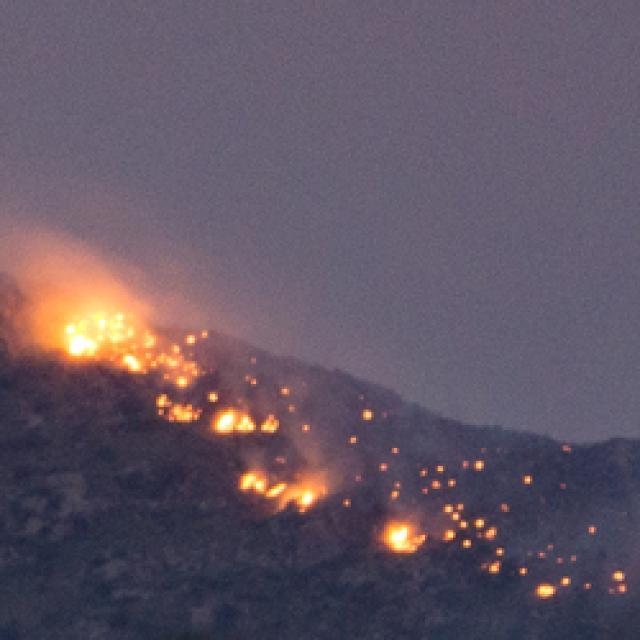Fire: (68, 308, 214, 390), (157, 393, 284, 442), (235, 473, 318, 518), (522, 542, 580, 600), (440, 500, 498, 546), (376, 520, 430, 556), (278, 382, 312, 435), (583, 566, 635, 596), (416, 460, 457, 497), (358, 395, 392, 427), (236, 351, 261, 388), (454, 451, 487, 476), (479, 550, 507, 576), (378, 463, 398, 496), (514, 471, 534, 488), (386, 443, 404, 458), (500, 501, 512, 518), (586, 520, 602, 532), (560, 442, 576, 454), (348, 434, 358, 446)
Smoke: (0, 220, 210, 316)
